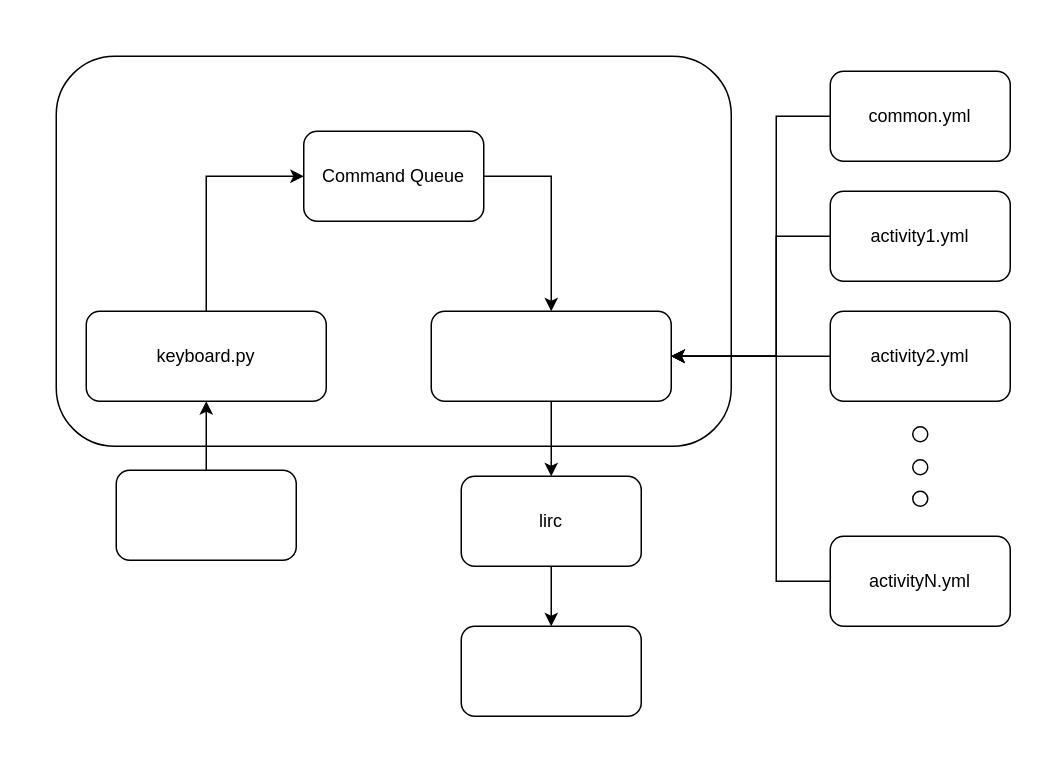
This 1056x771 diagram has some shape labels left out. Here are the shapes that lost their labels. From the top down, the box of each, then its label:
(55, 55, 731, 446): main.py
(430, 310, 671, 401): command_processor.py
(115, 469, 296, 560): HID (Keyboard)
(460, 625, 641, 716): IR Hardware
